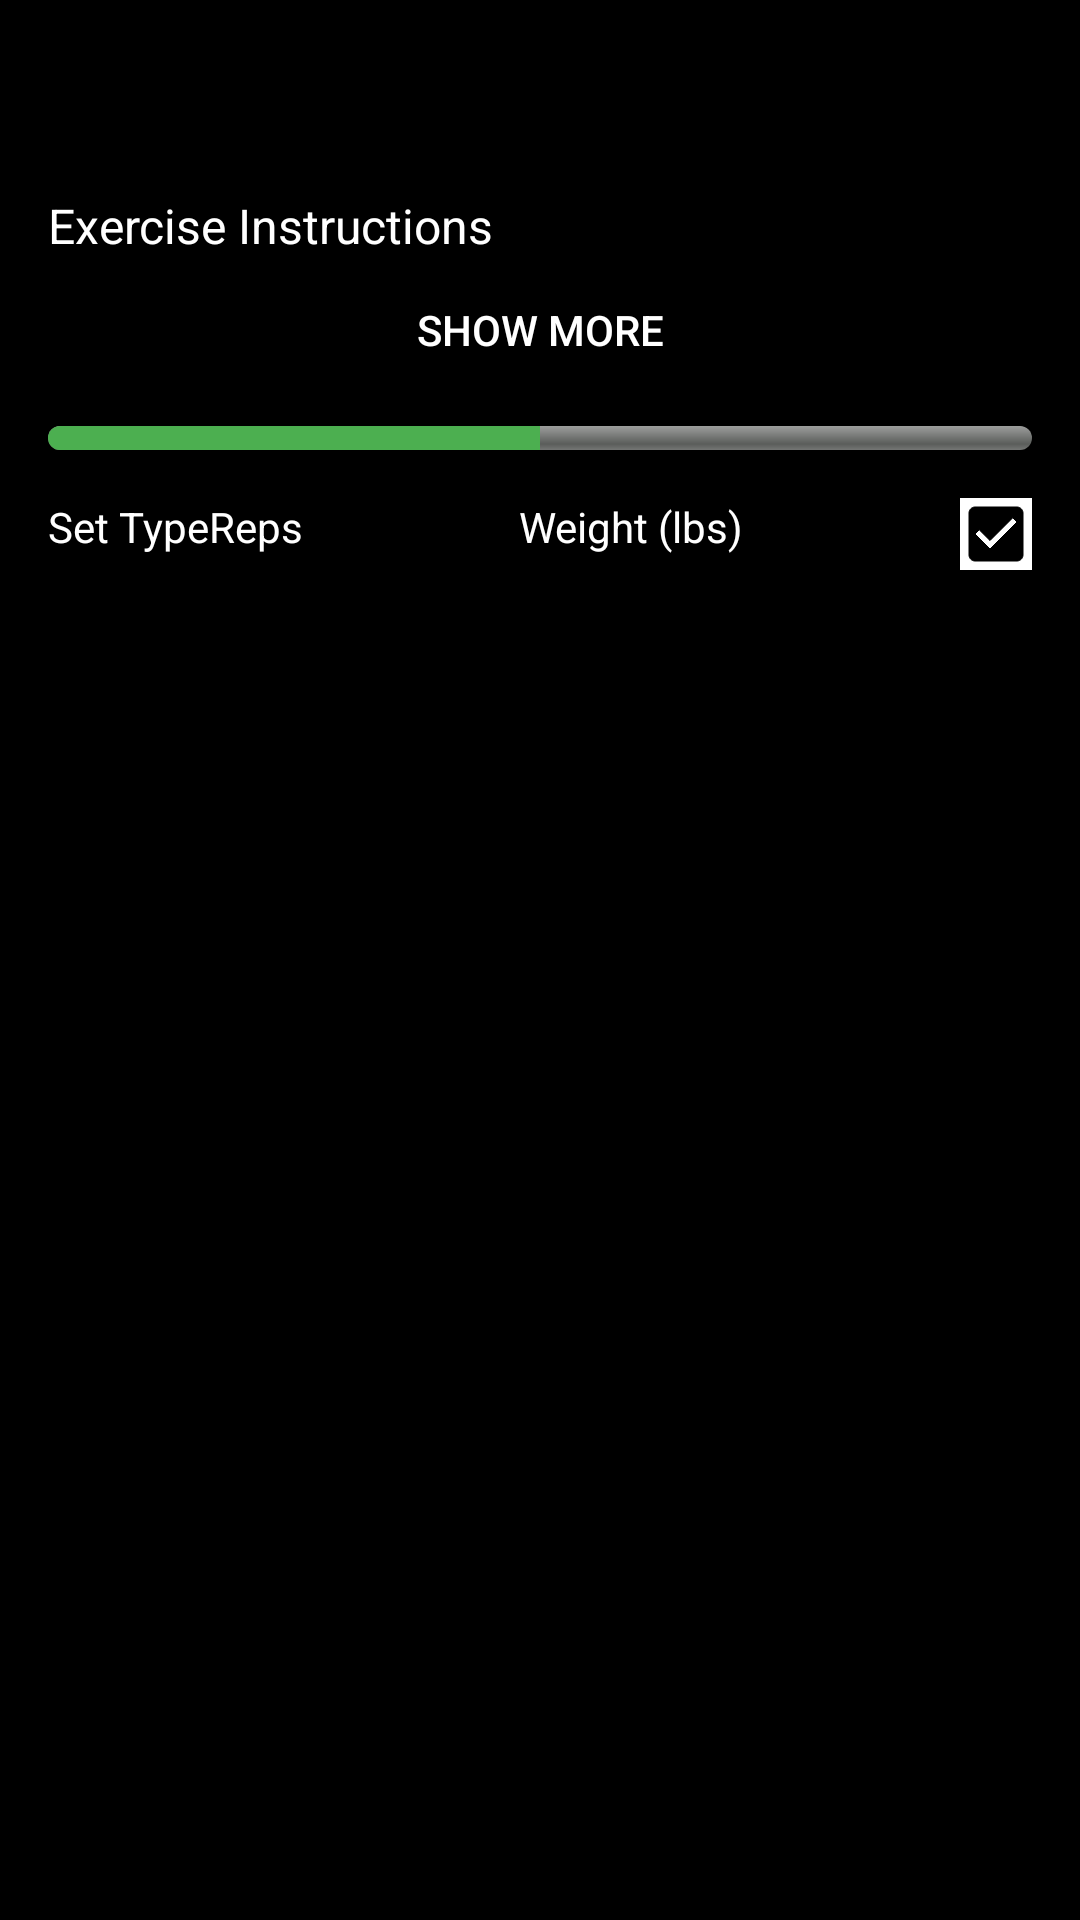

Where icons sit on this 1080x1920 app screen, as {"x1": x1, "y1": y1, "x2": x2, "y2": y2}:
Check Icon: {"x1": 960, "y1": 498, "x2": 1032, "y2": 570}
